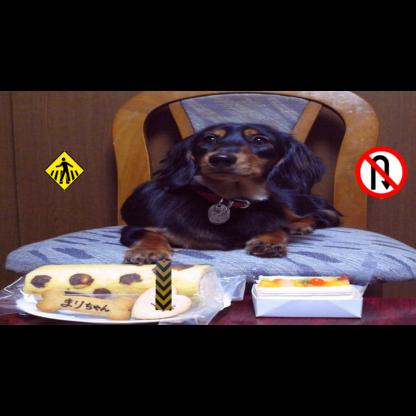A-32b: (44, 150, 85, 191)
O-MP: (155, 261, 171, 310)
